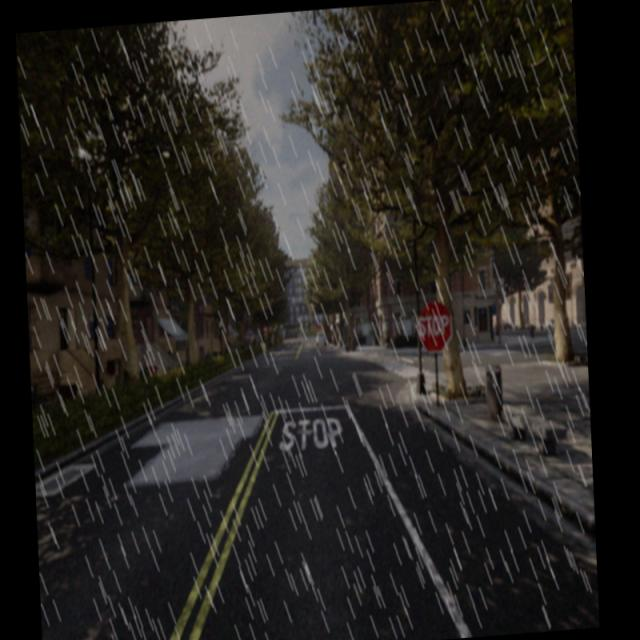stop sign: (412, 297, 453, 354)
